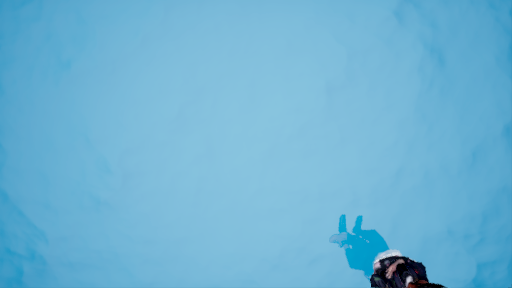person: (328, 209, 439, 288)
